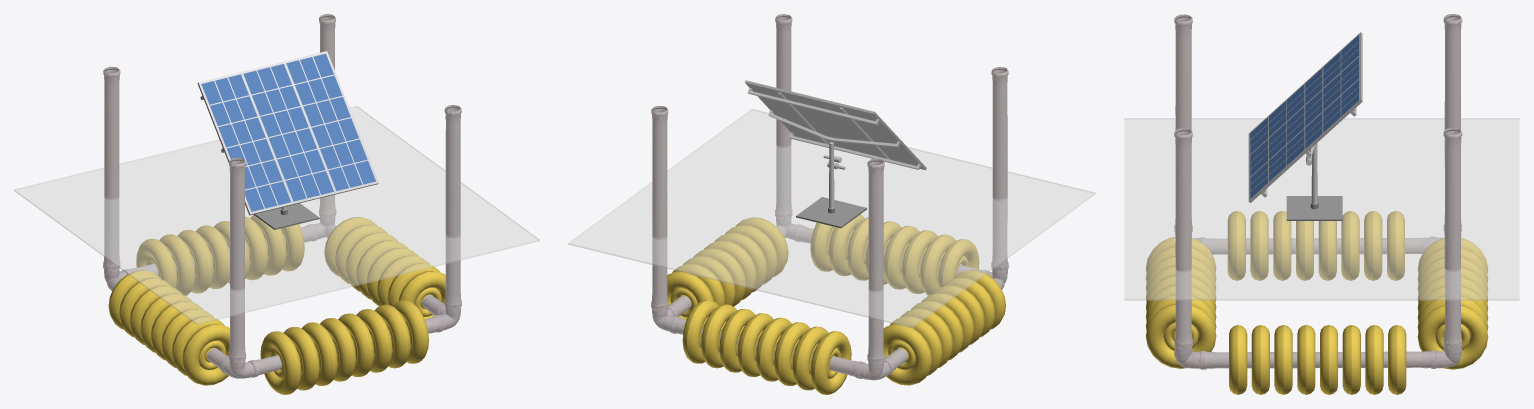
File: boat.gltf
3 views of the same model, side by side, from view 1: azimuth 30°, elevation 25°; view 2: azimuth 150°, elevation 25°; view 3: azimuth 270°, elevation 25° (orthographic). The views are drawn at different scales.
Parts seen in each view (by area): view 1: plate, Panel, straight_pipe_13, straight_pipe_15, straight_pipe_4, straight_pipe_5, straight_pipe_12, big_one_7, straight_pipe_14, big_one_31, big_one_26, big_one_30 (+30 smaller); view 2: plate, Panel, straight_pipe_5, straight_pipe_7, straight_pipe_14, straight_pipe_15, big_one, Cylinder, straight_pipe_4, straight_pipe_6, straight_pipe_13, big_one_8 (+31 smaller); view 3: plate, Panel, big_one_24, straight_pipe_13, straight_pipe_7, big_one_15, straight_pipe_6, straight_pipe_12, Cylinder, straight_pipe_14, straight_pipe_4, big_one_22 (+37 smaller).
Part boxes in pixels (x1,y1,x2,y2): plate: (14,106,539,324); Panel: (197,51,378,215); straight_pipe_13: (444,105,461,296); straight_pipe_15: (229,157,245,349); straight_pipe_4: (103,71,120,268); straight_pipe_5: (103,66,120,257); straight_pipe_12: (444,110,461,306); big_one_7: (182,324,229,385); straight_pipe_14: (229,163,245,359); big_one_31: (260,331,301,394); big_one_26: (356,309,392,372); big_one_30: (283,326,319,390); plate: (568,109,1095,328); Panel: (745,80,926,170); straight_pipe_5: (867,158,884,350); straight_pipe_7: (651,106,668,297); straight_pipe_14: (991,72,1008,269); straight_pipe_15: (991,66,1008,258); big_one: (883,324,932,385); Cylinder: (796,142,866,228); straight_pipe_4: (867,164,884,360); straight_pipe_6: (651,111,668,308); straight_pipe_13: (775,14,792,206); big_one_8: (810,331,851,394); plate: (1124,118,1519,300); Panel: (1248,32,1362,202); big_one_24: (1146,304,1216,368); straight_pipe_13: (1174,128,1192,334); straight_pipe_7: (1443,127,1462,334); big_one_15: (1417,305,1488,369); straight_pipe_6: (1443,133,1461,345); straight_pipe_12: (1174,134,1192,346); Cylinder: (1286,143,1342,220); straight_pipe_14: (1174,20,1192,229); straight_pipe_4: (1443,19,1461,229); big_one_22: (1365,325,1383,394).
Bounding box in the file's own units: 1.88 × 1.31 × 1.74.
Materials: 5 (3 with a texture image).
